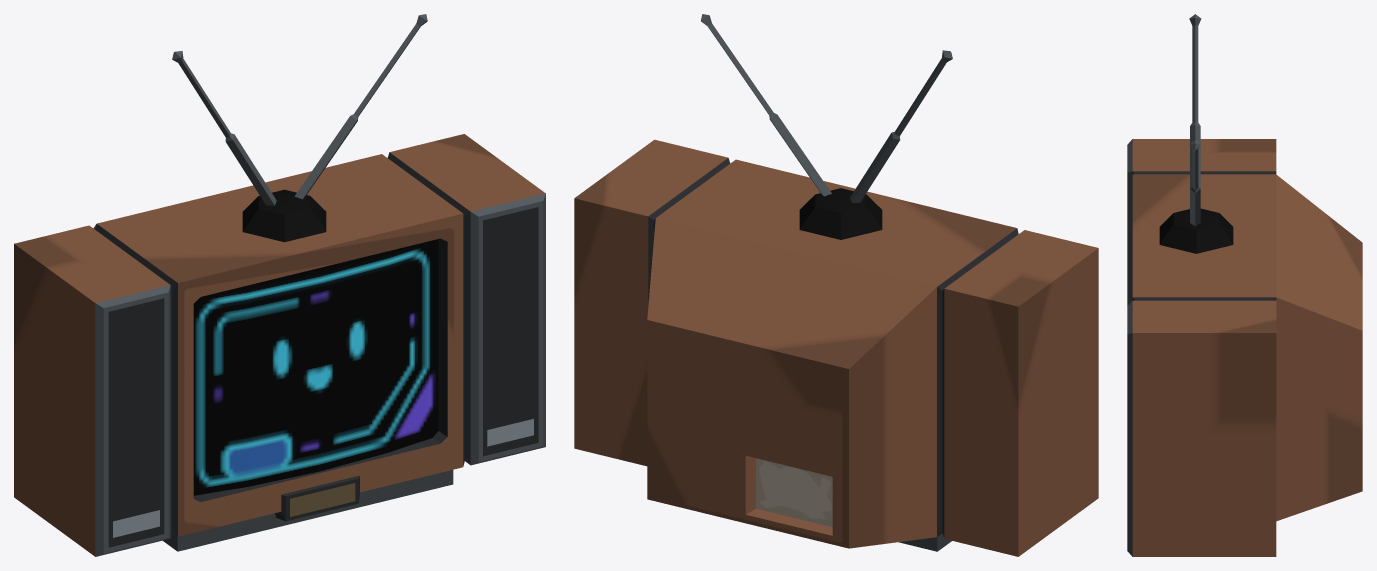
File: SM_Prop_Old_Television_01.fbx
The picture shows the model from 3 angles, left to right: view 1: azimuth 30°, elevation 25°; view 2: azimuth 150°, elevation 25°; view 3: azimuth 270°, elevation 25°; orthographic projection. The views are drawn at different scales.
Parts seen in each view (by area): view 1: SM_Prop_Old_Television_01, SM_Prop_Old_Television_01_Screen; view 2: SM_Prop_Old_Television_01; view 3: SM_Prop_Old_Television_01.
Boxes of the visible parts, x1,y1,x2,y2 form: SM_Prop_Old_Television_01: (14, 14, 545, 556); SM_Prop_Old_Television_01_Screen: (193, 239, 438, 495); SM_Prop_Old_Television_01: (574, 14, 1098, 556); SM_Prop_Old_Television_01: (1127, 14, 1362, 556).
Size of the model in its own units: 131 by 131 by 67.1.
